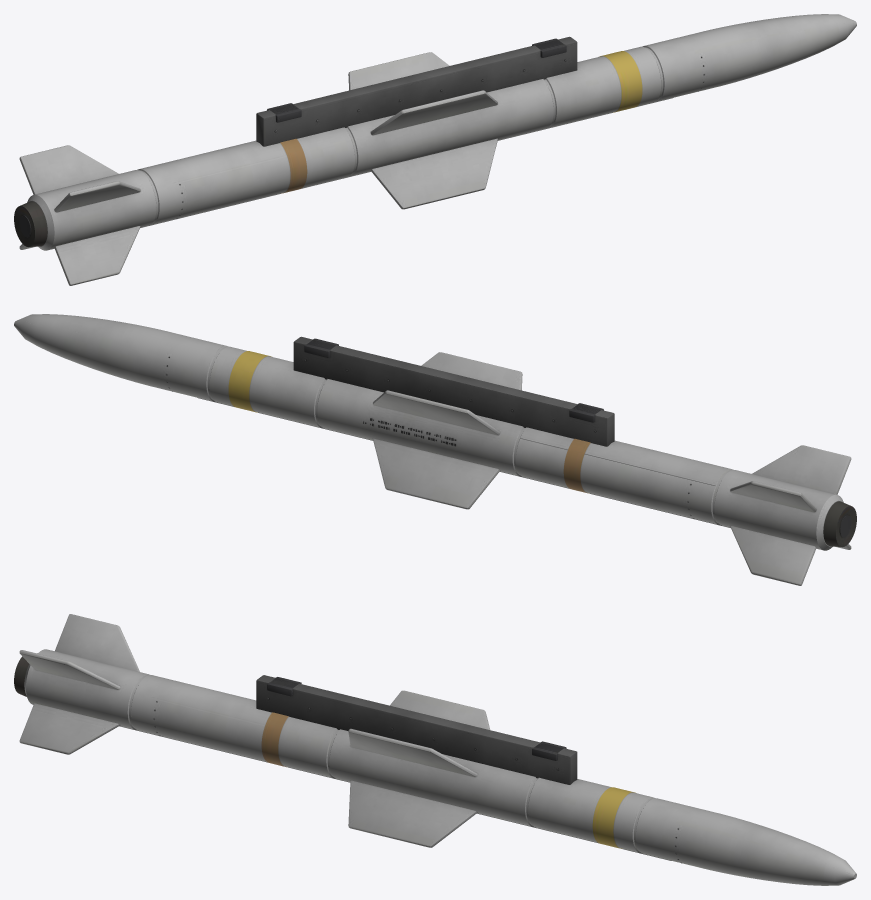
The model's file is aam_1.glb.
3 views of the same model, one above another, from view 1: azimuth 30°, elevation 25°; view 2: azimuth 150°, elevation 25°; view 3: azimuth 330°, elevation 25° (orthographic).
Parts seen in each view (by area): view 1: aam_1; view 2: aam_1; view 3: aam_1.
Boxes of the visible parts, bbox=[...] form: aam_1: bbox=[14, 14, 856, 285]; aam_1: bbox=[14, 314, 856, 585]; aam_1: bbox=[14, 614, 856, 885].
Bounding box in the file's own units: 1 × 0.1194 × 0.1149.
Materials: 7 (7 with a texture image).
